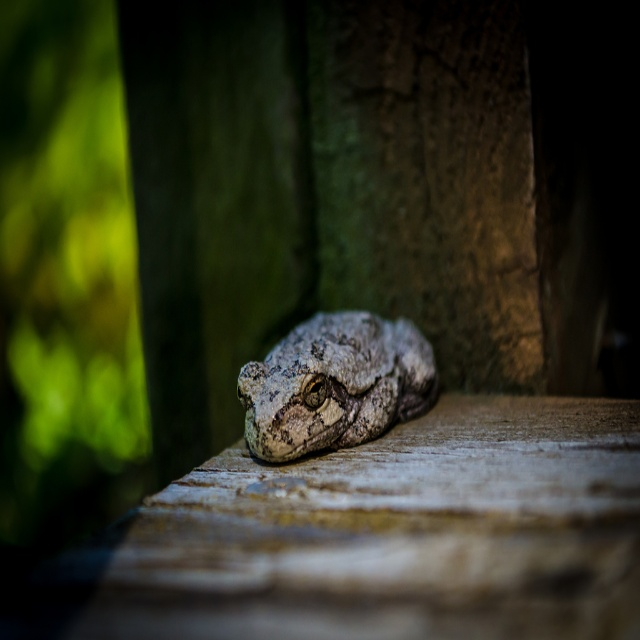Frog: (237, 307, 439, 472)
